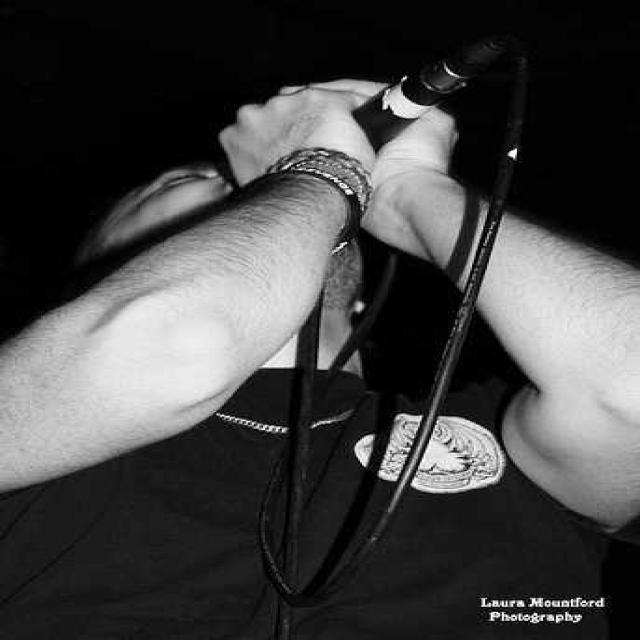microphone: (250, 22, 545, 179)
